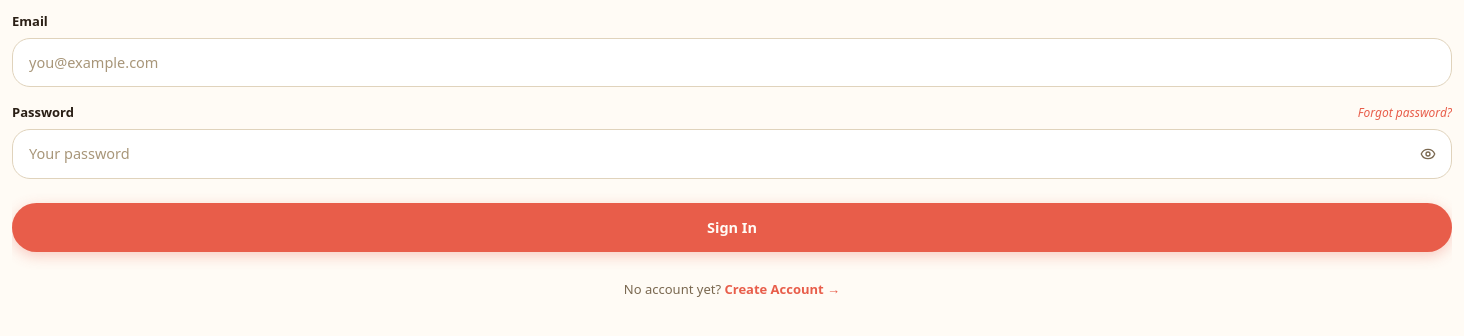
LoginForm › shows validation error for empty email submission
This screenshot has width=1464, height=336.
Note: Fill password but leave email empty, then submit
Type "Passw0rd!" into the password field labelled "Password".
click(732, 154); type("Passw0rd!")  # box [12,129,1452,179]
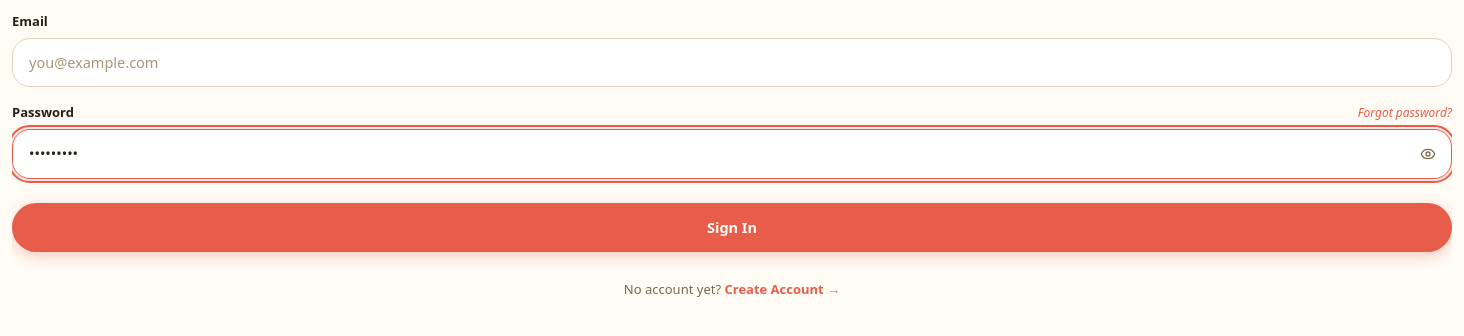
Click the button "Sign In".
click(732, 227)  # box [12,202,1452,252]
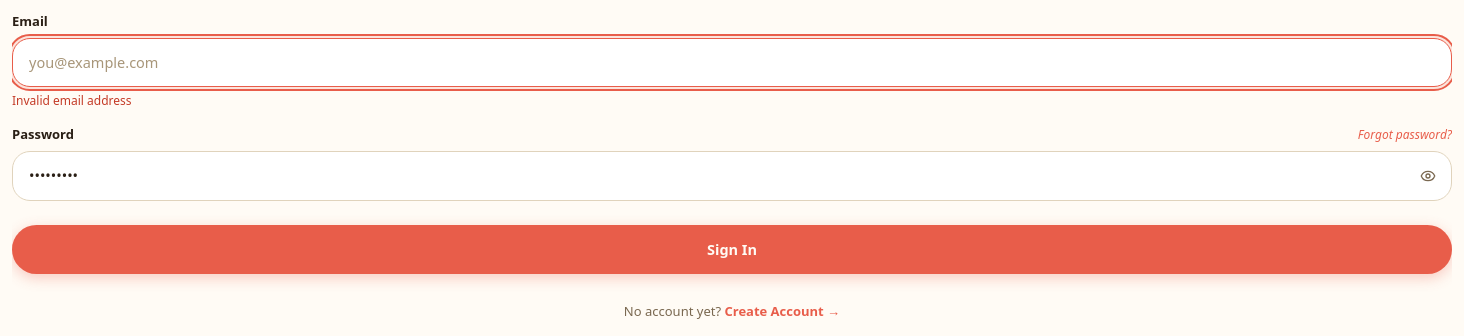
Expected: the text "Invalid email address" is shown, [12,92,132,109]
